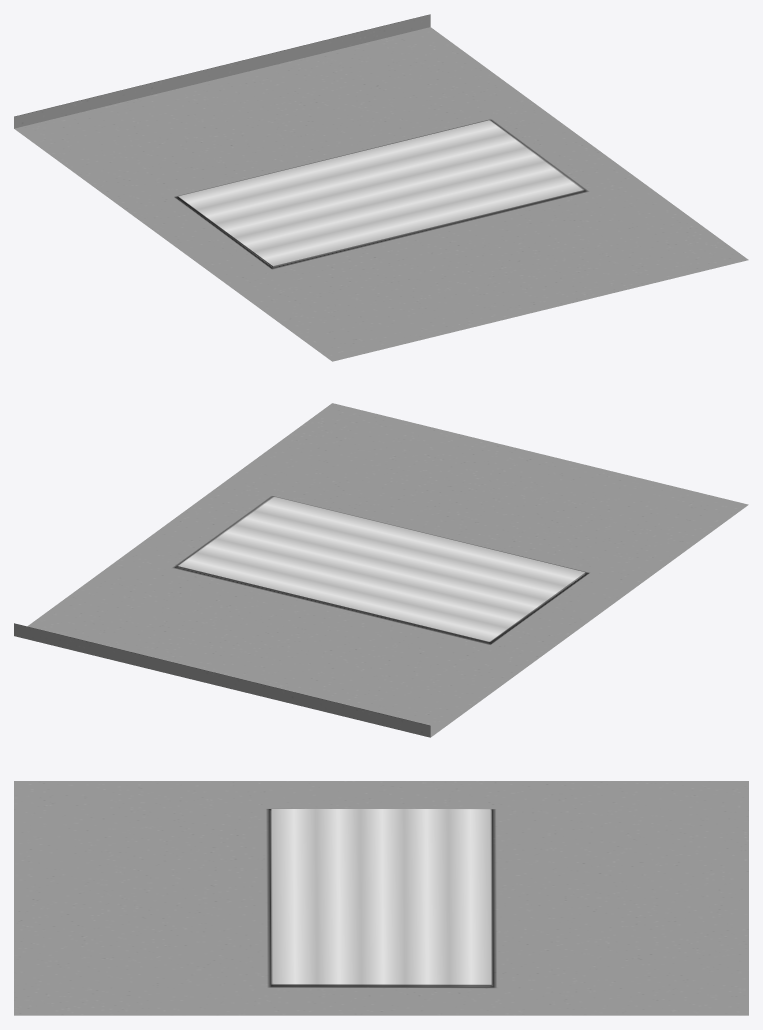
Rendered from ceiling-1.fbx.
The picture shows the model from 3 angles, top to bottom: view 1: azimuth 30°, elevation 25°; view 2: azimuth 150°, elevation 25°; view 3: azimuth 270°, elevation 25°; orthographic projection. The views are drawn at different scales.
Parts seen in each view (by area): view 1: pCube53; view 2: pCube53; view 3: pCube53.
Boxes of the visible parts, x1,y1,x2,y2 form: pCube53: (14, 14, 748, 361); pCube53: (14, 403, 748, 737); pCube53: (14, 781, 748, 1015).
Bounding box in the file's own units: 3.4 × 0.1 × 4.5.
2 materials, 2 textured.
